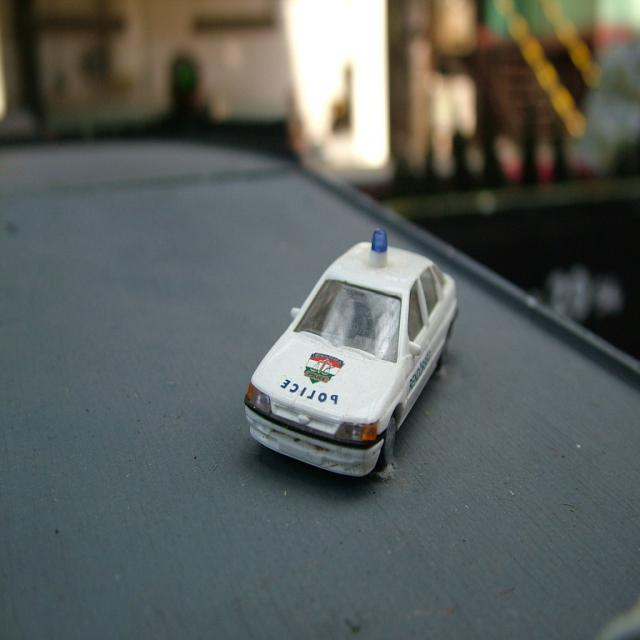other: (243, 230, 461, 477)
